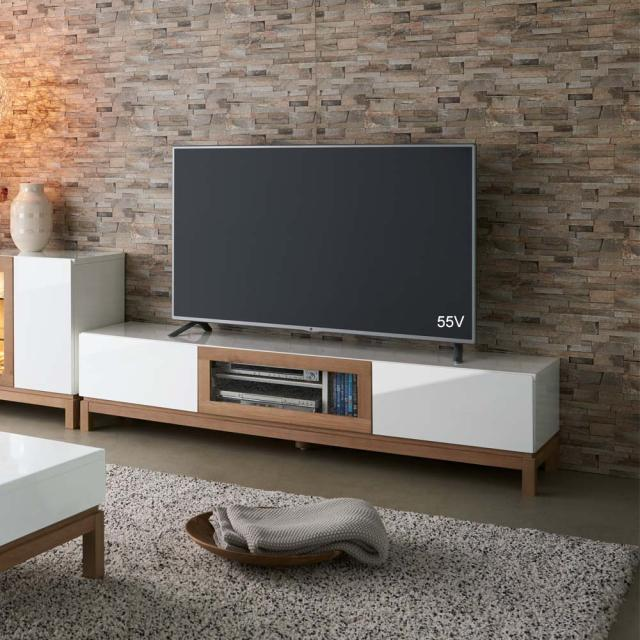natural shelf: (77, 318, 572, 496)
